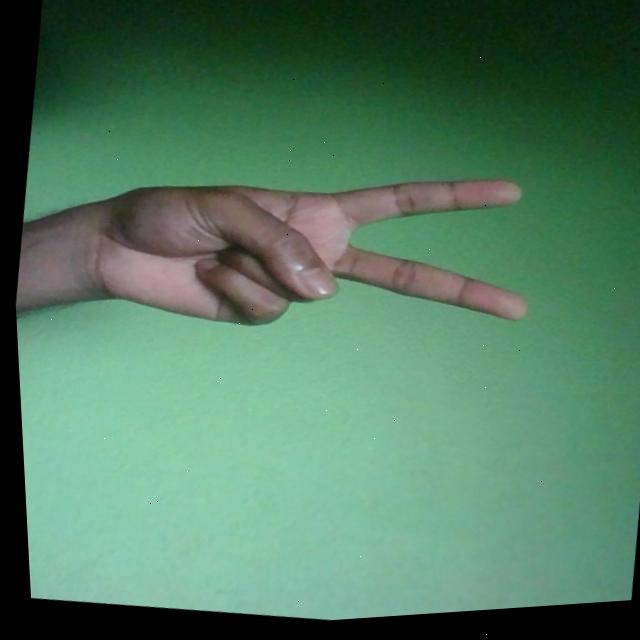Peace: (70, 129, 543, 377)
